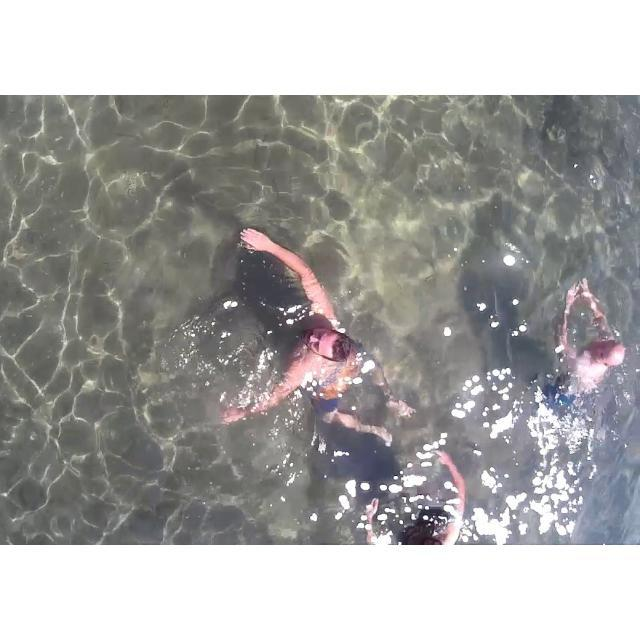human: (206, 212, 395, 454), (553, 263, 636, 419)
